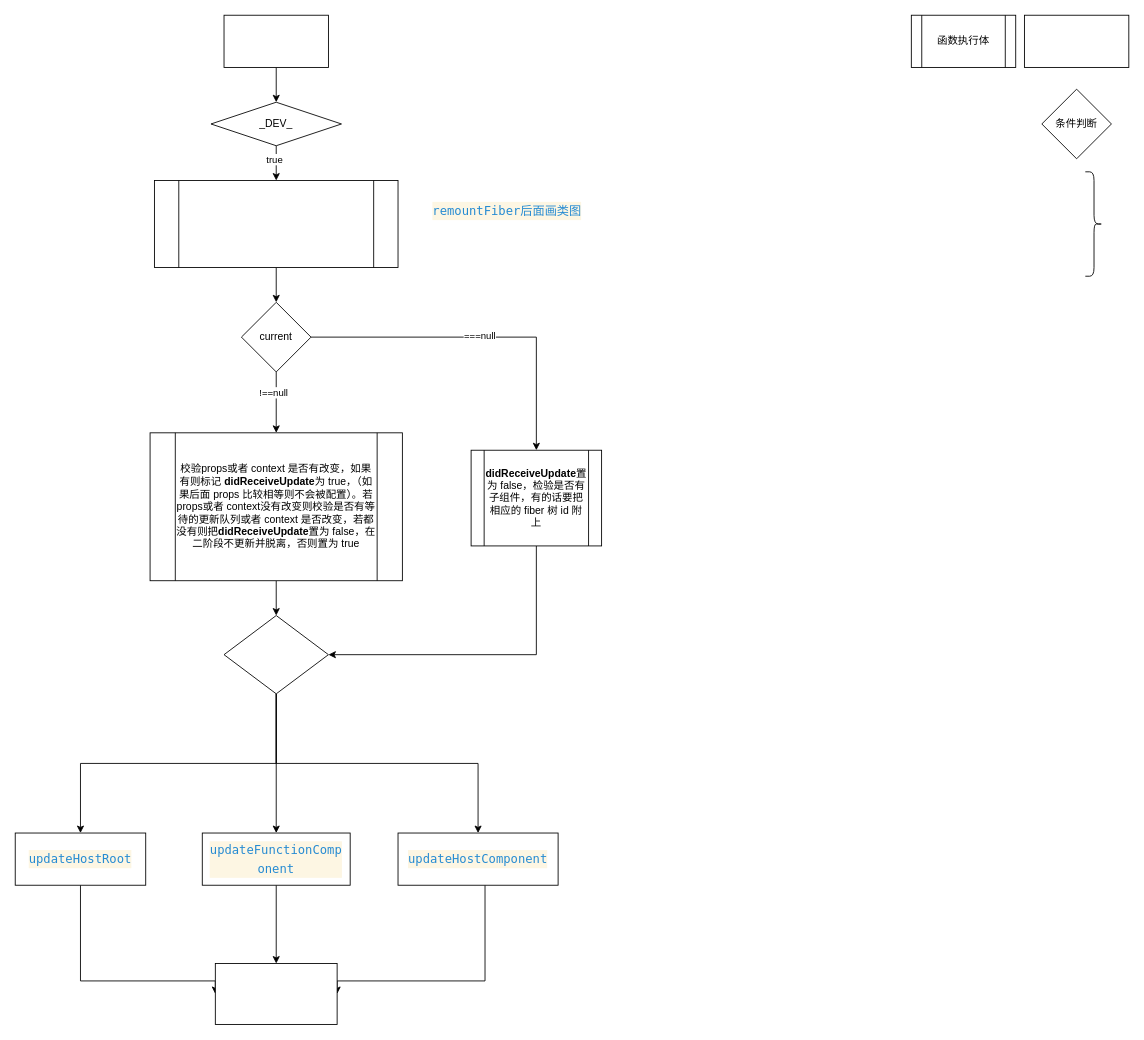
The diagram is 1144 pixels wide and 1040 high, and some of its shapes have lost their labels. Here are the shapes that lost their labels. From the top down, the centre of each, then its label:
At point (275, 40): "beginWork".
At point (1076, 40): "函数call".
At point (276, 224): "若 fiber 的current树不为空，且 wip的 _debugNeedsRemount 为真，则执行重挂载 fiber方法( remountFiber )".
At point (275, 654): "fiber.tag".
At point (275, 993): "reconcileChildren基于当前节点生成".
